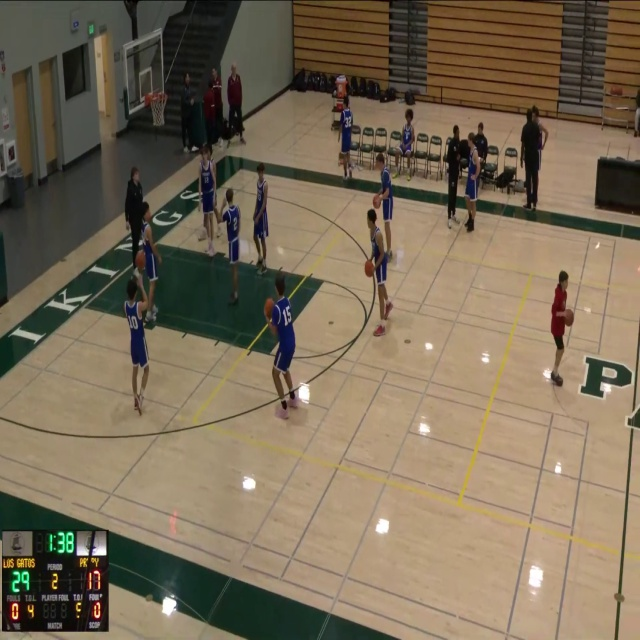Basketball: (264, 298, 274, 319), (135, 250, 145, 270), (364, 260, 375, 277), (564, 309, 574, 326), (372, 194, 381, 208)
